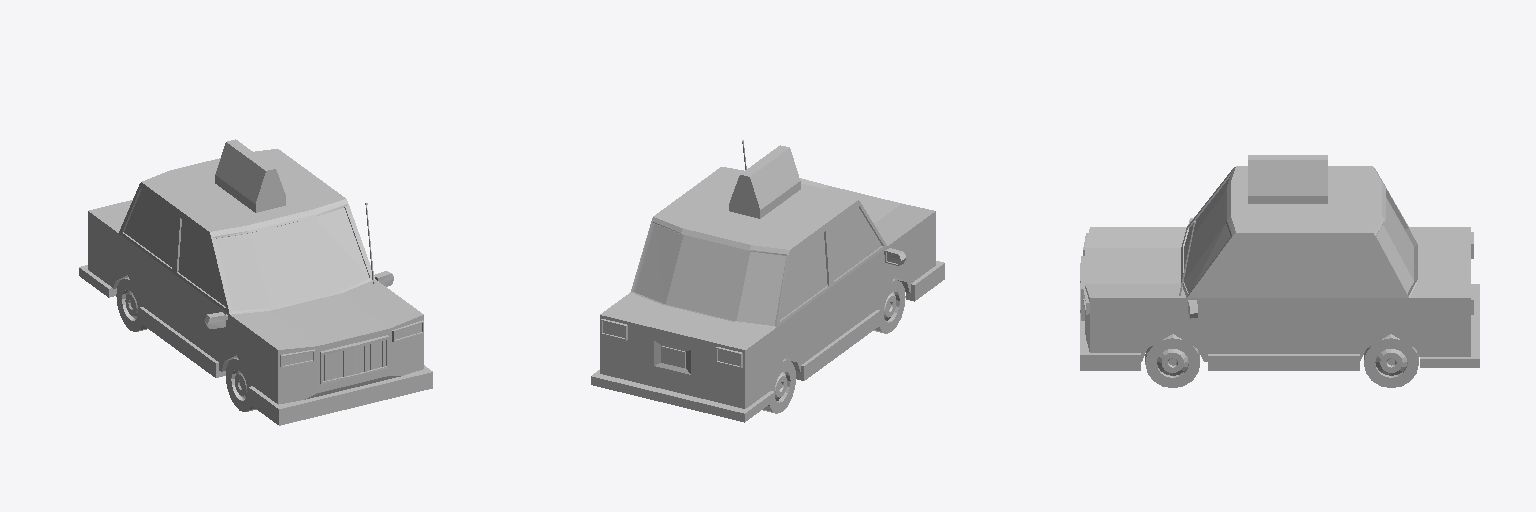
File: Taxi_01.obj
3 renders of one model, left to right at view 1: azimuth 30°, elevation 25°; view 2: azimuth 150°, elevation 25°; view 3: azimuth 270°, elevation 25°, orthographic.
Parts seen in each view (by area): view 1: Police_Car.001_Cube.029; view 2: Police_Car.001_Cube.029; view 3: Police_Car.001_Cube.029.
Boxes of the visible parts, <box> form: Police_Car.001_Cube.029: <box>79,139,432,425</box>; Police_Car.001_Cube.029: <box>591,140,944,422</box>; Police_Car.001_Cube.029: <box>1080,155,1479,387</box>.
Bounding box in the file's own units: 5.37 × 5.39 × 9.98.